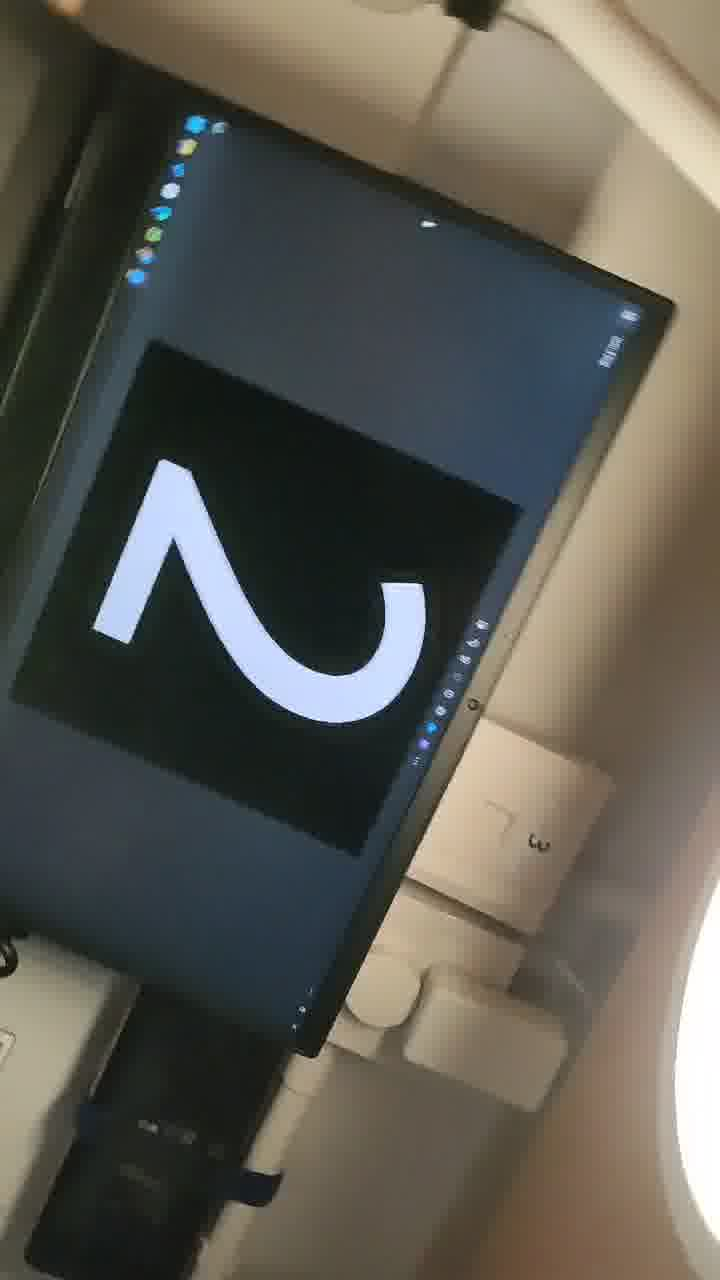two: (91, 400, 466, 771)
